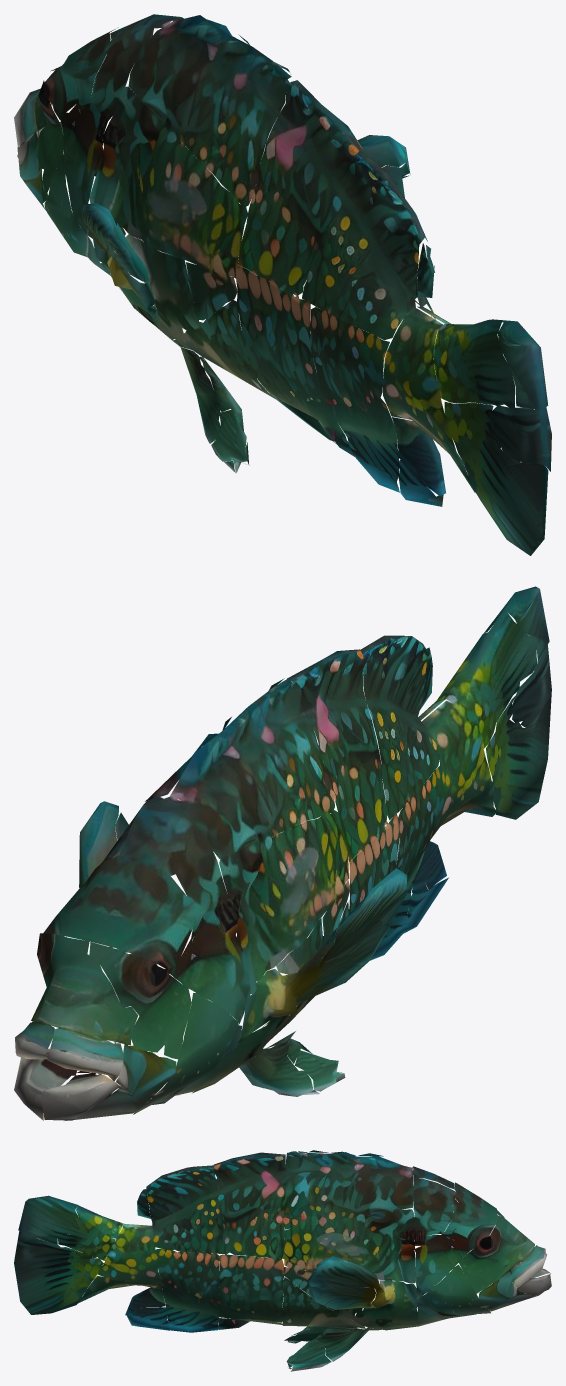
File: trop_parrot.glb
3 renders of one model, top to bottom at view 1: azimuth 30°, elevation 25°; view 2: azimuth 150°, elevation 25°; view 3: azimuth 270°, elevation 25°, orthographic. The views are drawn at different scales.
Visible parts, largest first — view 1: tripo_node_e0227b37-ff1f-4929-8de8-c789576a374c; view 2: tripo_node_e0227b37-ff1f-4929-8de8-c789576a374c; view 3: tripo_node_e0227b37-ff1f-4929-8de8-c789576a374c.
Part boxes in pixels (box(x1,y1,x2,y2)): tripo_node_e0227b37-ff1f-4929-8de8-c789576a374c: box(14, 14, 551, 555); tripo_node_e0227b37-ff1f-4929-8de8-c789576a374c: box(14, 586, 551, 1120); tripo_node_e0227b37-ff1f-4929-8de8-c789576a374c: box(14, 1150, 551, 1371).
Bounding box in the file's own units: 0.3425 × 0.4235 × 0.999.
1 material, 1 textured.
